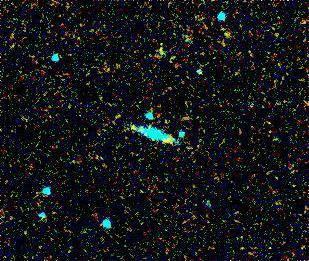star: (116, 115, 146, 145)
